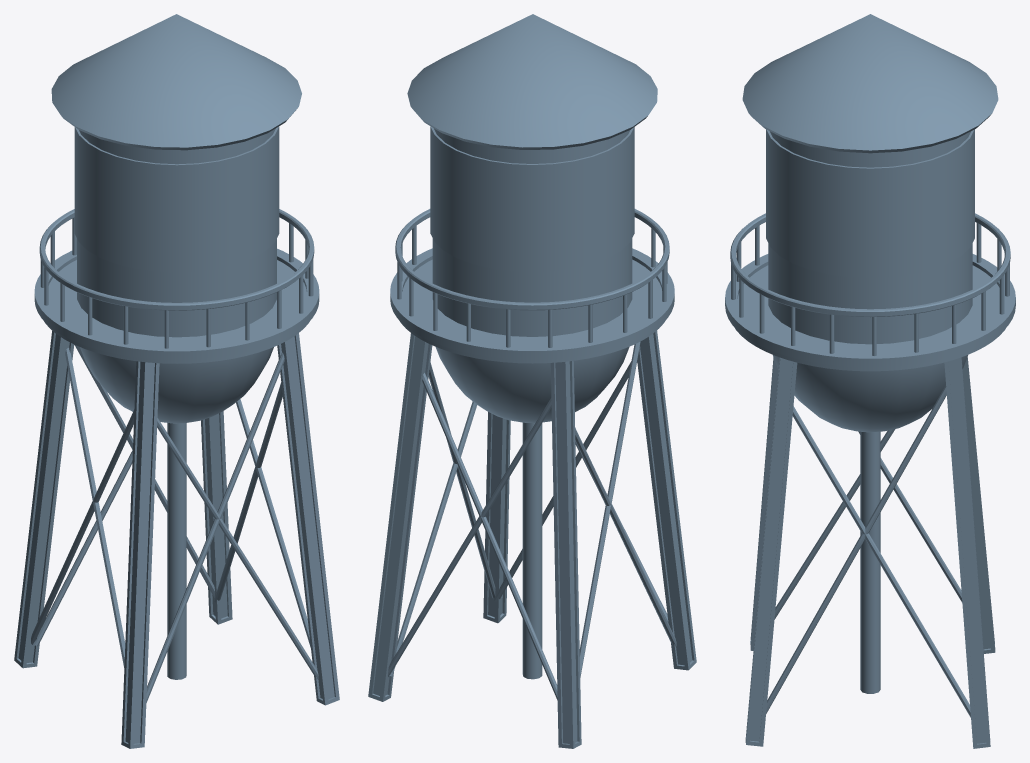
Rendered from Water_Tower.fbx.
The picture shows the model from 3 angles, left to right: view 1: azimuth 30°, elevation 25°; view 2: azimuth 150°, elevation 25°; view 3: azimuth 270°, elevation 25°; orthographic projection. The views are drawn at different scales.
Visible parts, largest first — view 1: Tower, Logo; view 2: Tower, Logo; view 3: Tower, Logo.
Boxes of the visible parts, x1=… form: Tower: x1=14, y1=14, x2=339, y2=748; Logo: x1=74, y1=126, x2=279, y2=272; Tower: x1=368, y1=14, x2=696, y2=748; Logo: x1=430, y1=126, x2=634, y2=272; Tower: x1=725, y1=14, x2=1015, y2=748; Logo: x1=766, y1=129, x2=974, y2=277.
Size of the model in its own units: 462 by 1200 by 462.
